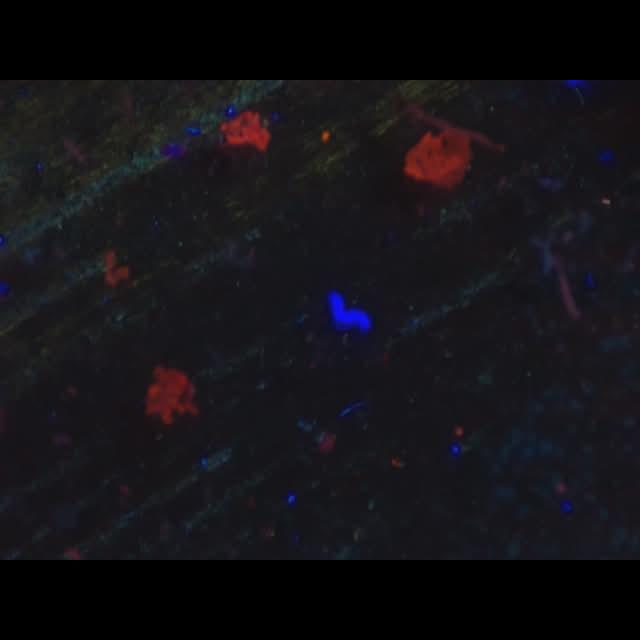Fragment: (146, 367, 200, 425), (218, 109, 272, 153)
